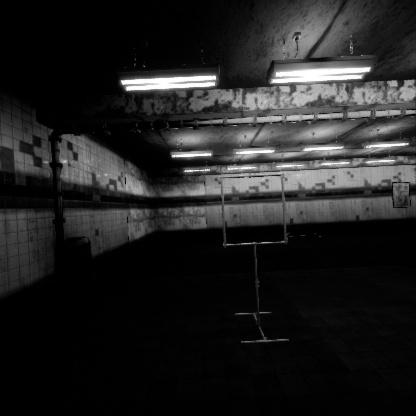gate: (214, 168, 287, 243)
